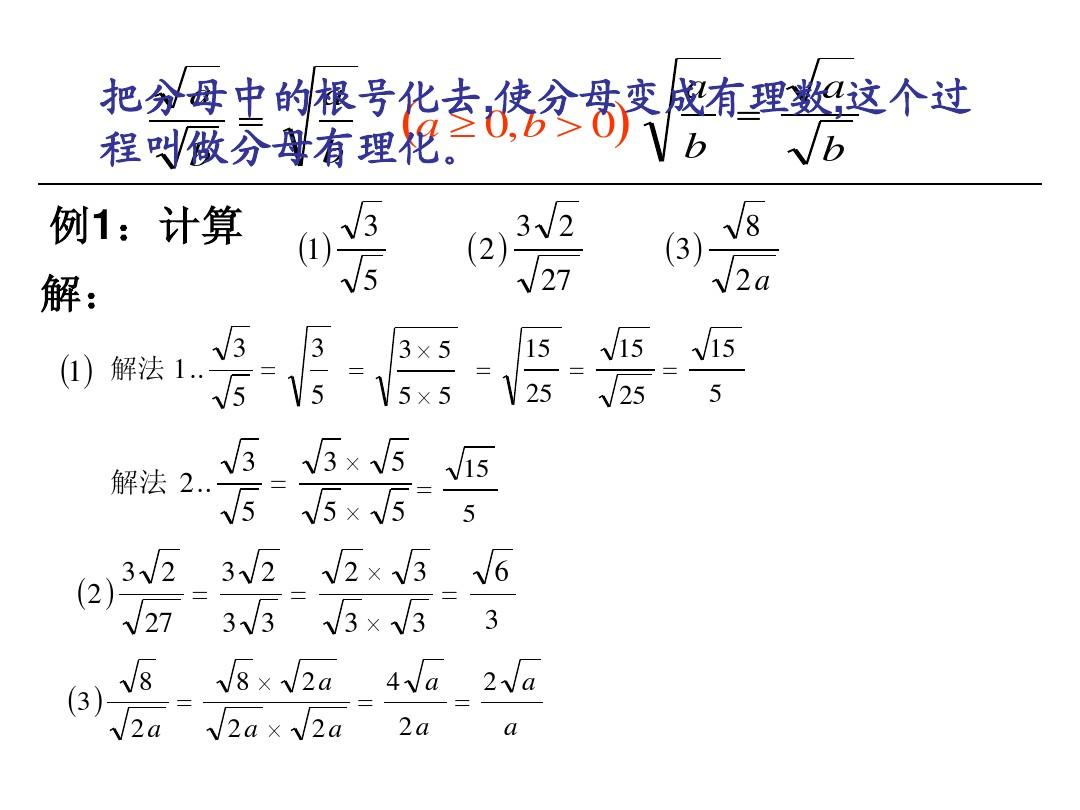division: (310, 584, 442, 610), (775, 98, 878, 131), (200, 693, 353, 715), (292, 475, 415, 496), (136, 109, 236, 128), (504, 238, 589, 258), (106, 694, 179, 714), (328, 242, 394, 263), (211, 588, 284, 606), (383, 694, 449, 713), (701, 245, 789, 258), (215, 475, 273, 494), (203, 361, 257, 380), (683, 361, 747, 377), (386, 363, 458, 377), (593, 362, 656, 378), (438, 484, 498, 500), (310, 110, 356, 130), (473, 698, 545, 710), (468, 587, 517, 604), (118, 590, 187, 602), (671, 109, 721, 125), (520, 363, 560, 376)
sqrt: (652, 49, 718, 166), (377, 321, 457, 409), (294, 59, 357, 165), (506, 326, 561, 411), (789, 111, 868, 168), (285, 320, 332, 415), (162, 62, 229, 116), (795, 45, 846, 107), (515, 251, 572, 305), (715, 193, 773, 246), (715, 245, 773, 297), (532, 195, 585, 243), (694, 320, 744, 368), (123, 595, 180, 637), (278, 654, 336, 694), (342, 196, 389, 244), (207, 704, 263, 744), (497, 654, 550, 696), (293, 705, 352, 742), (110, 706, 169, 743), (342, 254, 392, 297), (601, 323, 651, 365), (320, 543, 362, 590), (120, 652, 168, 693), (318, 594, 362, 638), (217, 485, 263, 527), (402, 652, 448, 694), (375, 436, 420, 477), (217, 367, 255, 415), (140, 542, 184, 583), (444, 444, 489, 484), (476, 544, 516, 589), (604, 371, 649, 410), (306, 436, 346, 479), (305, 483, 344, 527), (376, 483, 414, 526), (243, 595, 278, 641), (213, 323, 254, 362), (395, 597, 434, 638), (215, 656, 254, 696), (391, 545, 428, 586), (225, 431, 257, 476), (245, 546, 280, 587)
